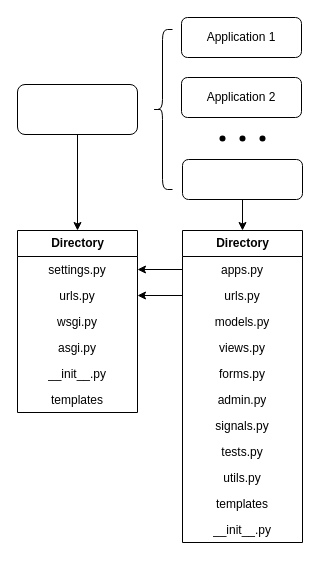
This 320x563 diagram has some shape labels left out. Each missing label, with the centre of its shape:
Application n: [242,179]
Project: [77,109]
